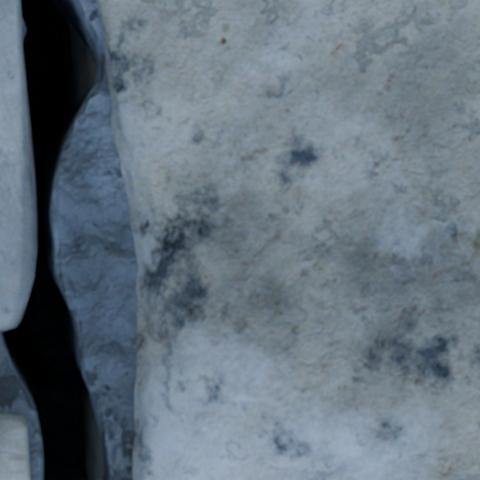brick: (96, 0, 479, 479), (0, 0, 31, 329), (0, 415, 29, 479)
crack: (0, 0, 110, 479)
